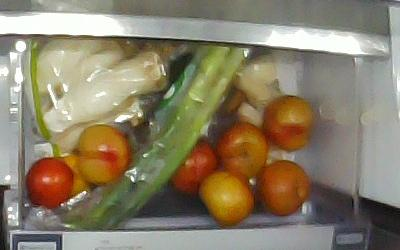prune: (196, 166, 254, 226), (76, 123, 130, 183), (255, 158, 310, 216), (213, 120, 267, 178), (261, 94, 314, 151), (169, 137, 218, 194), (25, 156, 73, 207)
